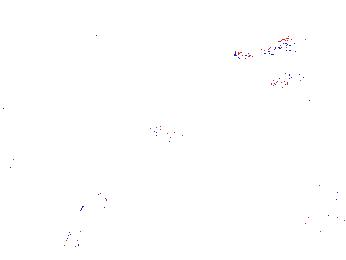X-ray fish: (220, 178, 265, 210)
glassfish: (67, 170, 122, 257), (148, 123, 260, 165)
red belly glassfish: (276, 36, 324, 51), (268, 74, 308, 91), (233, 49, 271, 60)
